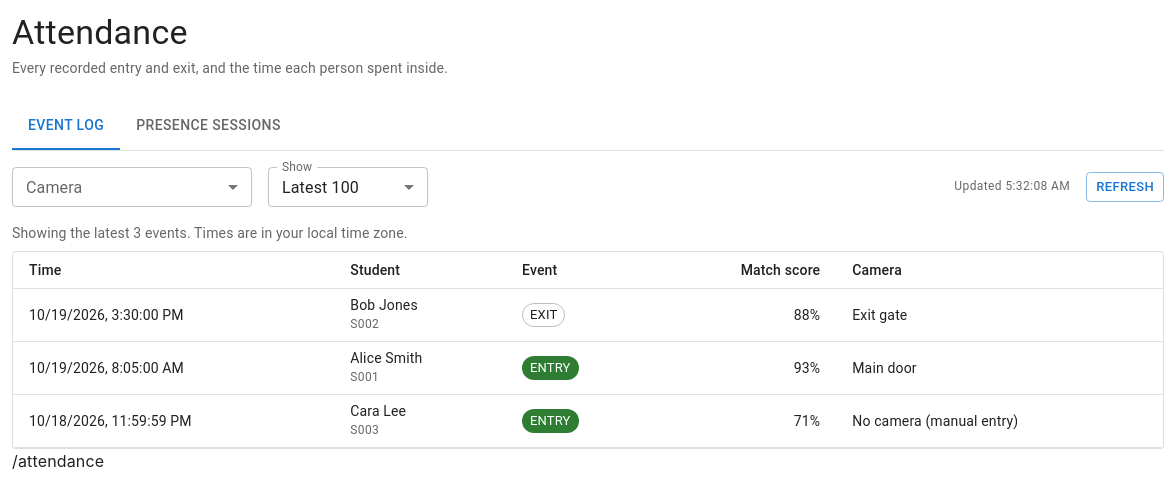
Test: camera filter sends camera_id, updates the URL and lists deleted cameras
The image size is (1176, 486).
Expected: the table named "Attendance records" is shown, [13,252,1163,448]
Press the mouse on the dropdown named "Camera" at point(132, 187), box [12,167,252,207]
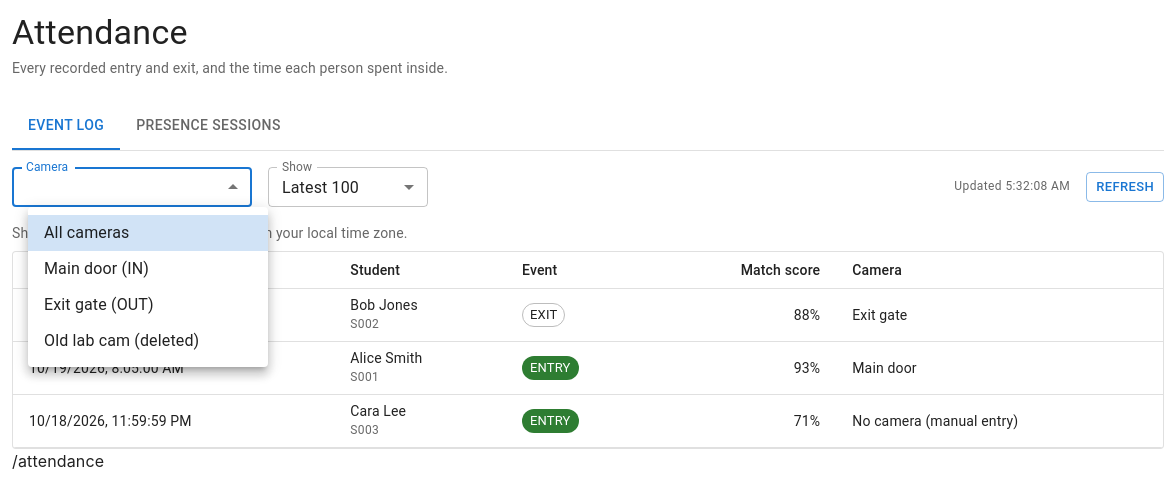
Expected: the option "Old lab cam (deleted)" is shown, [44,331,199,350]
Click the option "Exit gate (OUT)" at point(99, 304), box [44,295,154,314]
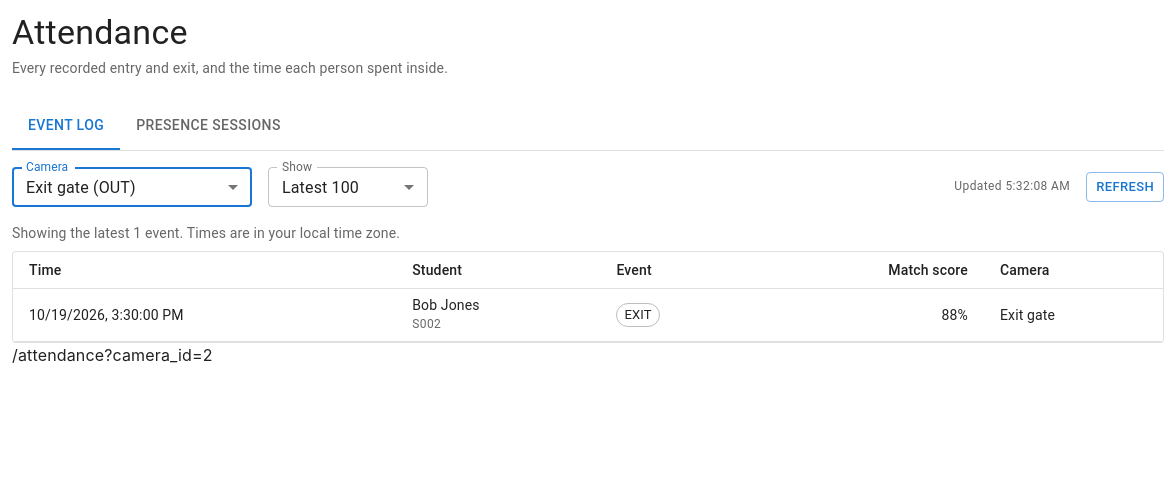
Expected: the text with test id "location" reads "/attendance?camera_id=2", [12,345,213,365]
